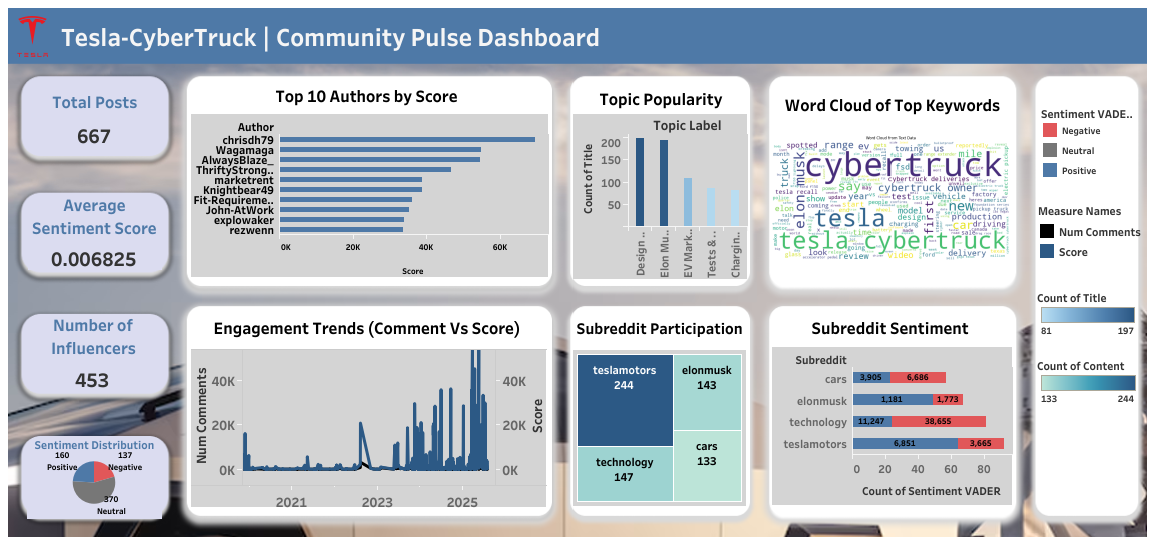

The page's visual inventory and layout, read from the dashboard file:
{"tool":"tableau","page":{"name":"Dashboard 1 (3)","canvas":[1000,1000],"units":"permille","ordinal":1},"visuals":[{"type":"title","box":[6.9,14.5,899.6,72.5]},{"type":"legend","title":"Subreddit Participation","param":"[federated.1f8w9oi17wvq6h15ir3v91grynxx].[cnt:content:qk]","box":[906.5,14.5,86.6,121.4]},{"type":"blank","box":[6.9,87,27.7,305.4]},{"type":"worksheet","title":"total post kpi","mark":"Automatic","box":[34.6,87,213.9,305.4]},{"type":"worksheet","title":"Average Sentiment Score","mark":"Automatic","box":[248.5,87,206.9,305.4]},{"type":"worksheet","title":"Number of Influencers","mark":"Automatic","box":[455.4,87,222.5,305.4]},{"type":"worksheet","title":"Sentiment Distribution","mark":"Pie","box":[677.9,87,228.6,305.4]},{"type":"legend","title":"Subreddit Sentiment","param":"[federated.1f8w9oi17wvq6h15ir3v91grynxx].[none:Sentiment_VADER:nk]","box":[906.5,135.9,86.6,121.4]},{"type":"text","box":[6.9,392.4,267.3,103.3]},{"type":"text","box":[274.2,392.4,177.9,97.6]},{"type":"text","box":[452.1,392.4,454.4,97.6]},{"type":"dashboard-object","box":[906.1,392.4,20.9,43.4]},{"type":"worksheet","title":"Subreddit Participation","mark":"Square","box":[274.2,490,177.9,495.5]},{"type":"worksheet","title":"Top Authors by Score","mark":"Automatic","rows":["author"],"cols":["score"],"box":[452.1,490,454.4,407.6]},{"type":"image","param":"C:/Users/Hassan/Desktop/ffb/internship(Data & Dashboard)/tableauworkspace/Tesla ","box":[6.9,495.6,267.3,228.3]},{"type":"text","box":[6.9,723.9,267.3,63.4]},{"type":"worksheet","title":"Subreddit Sentiment","mark":"Bar","rows":["subreddit"],"cols":["Sentiment_VADER"],"box":[6.9,787.3,267.3,198.2]}]}

Visuals, with their boxes on the dashboard's canvas, which has no fixed pixel size, in thousandths of its width and height (x1, y1, x2, y2). These are canvas units, not pixel positions in the 1154x549 screenshot, which may show the page scaled, cropped or inside an application window:
title: bbox=(7, 14, 906, 87)
"Subreddit Participation" legend: bbox=(906, 14, 993, 136)
blank: bbox=(7, 87, 35, 392)
"total post kpi" worksheet: bbox=(35, 87, 248, 392)
"Average Sentiment Score" worksheet: bbox=(248, 87, 455, 392)
"Number of Influencers" worksheet: bbox=(455, 87, 678, 392)
"Sentiment Distribution" worksheet (Pie marks): bbox=(678, 87, 906, 392)
"Subreddit Sentiment" legend: bbox=(906, 136, 993, 257)
text: bbox=(7, 392, 274, 496)
text: bbox=(274, 392, 452, 490)
text: bbox=(452, 392, 906, 490)
dashboard-object: bbox=(906, 392, 927, 436)
"Subreddit Participation" worksheet (Square marks): bbox=(274, 490, 452, 986)
"Top Authors by Score" worksheet: bbox=(452, 490, 906, 898)
image: bbox=(7, 496, 274, 724)
text: bbox=(7, 724, 274, 787)
"Subreddit Sentiment" worksheet (Bar marks): bbox=(7, 787, 274, 986)
